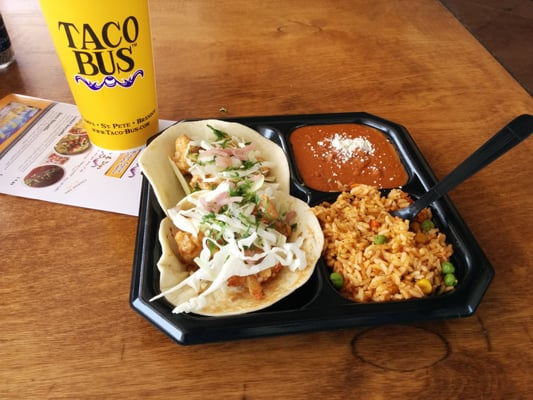salad: (393, 112, 533, 222)
sushi: (138, 118, 327, 319)
